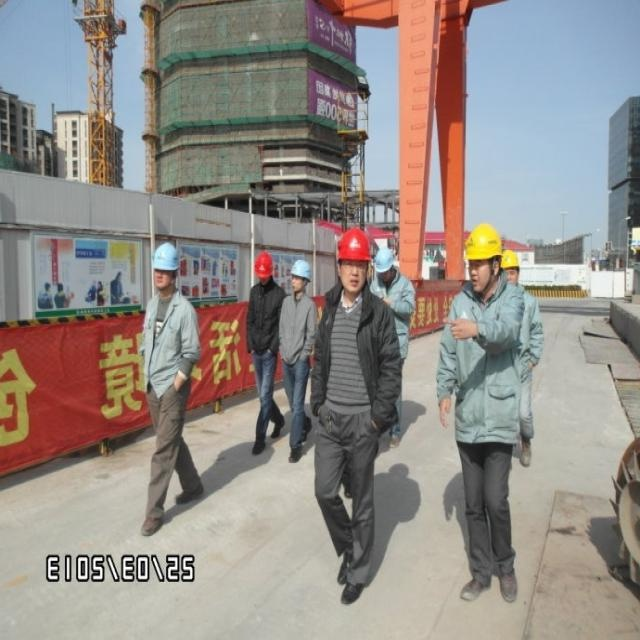Con_Casco: (462, 223, 502, 292), (336, 225, 370, 289), (151, 243, 181, 291)
